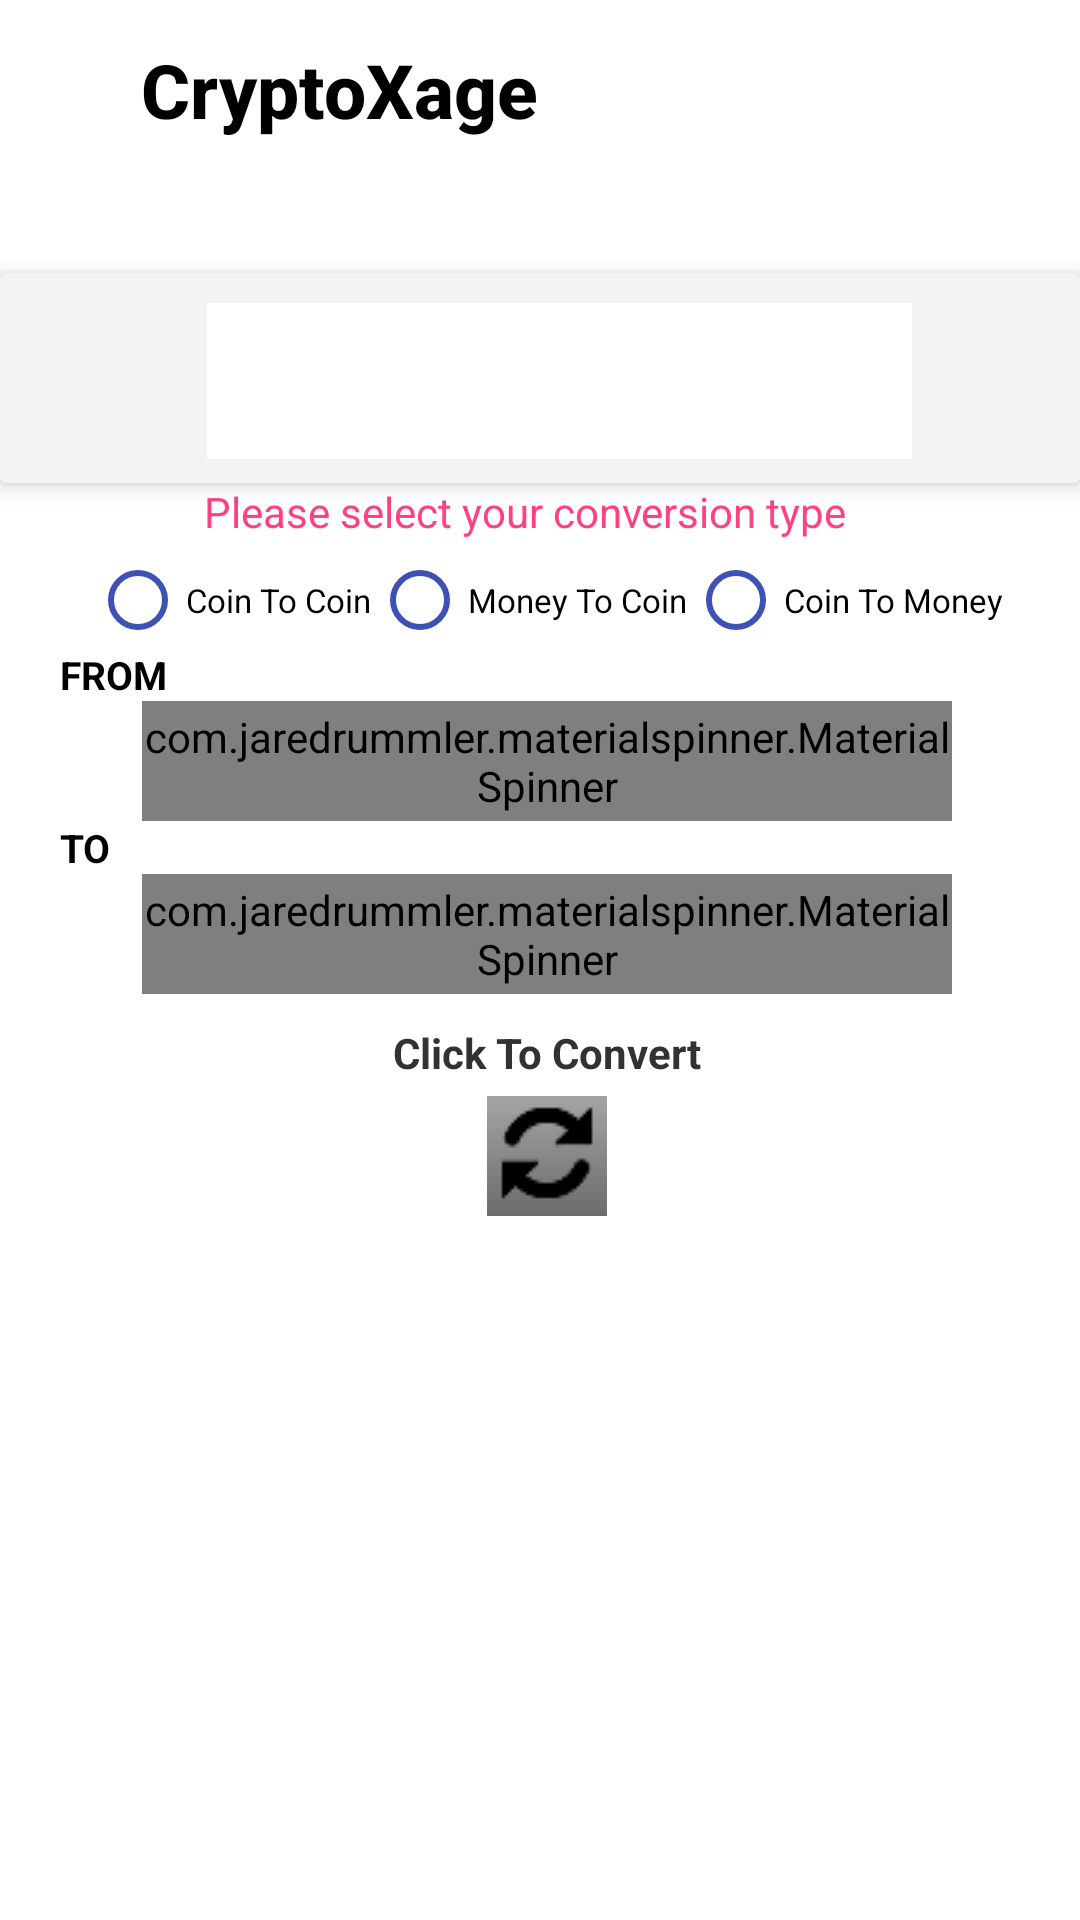

Where icons sit on this 1080w x 1920h app screen, as {"x1": x1, "y1": y1, "x2": x2, "y2": y2}:
reload: {"x1": 487, "y1": 1096, "x2": 607, "y2": 1216}
